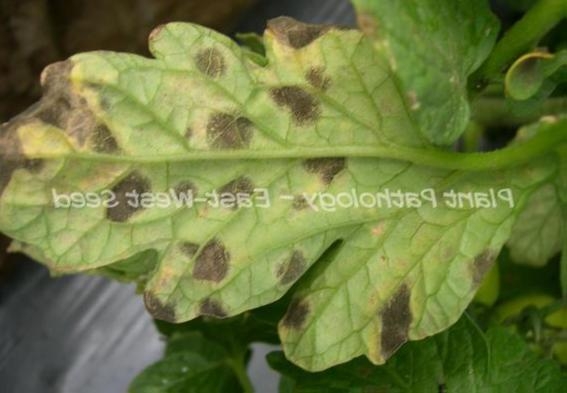Tomato mold leaf: (6, 11, 545, 374)
